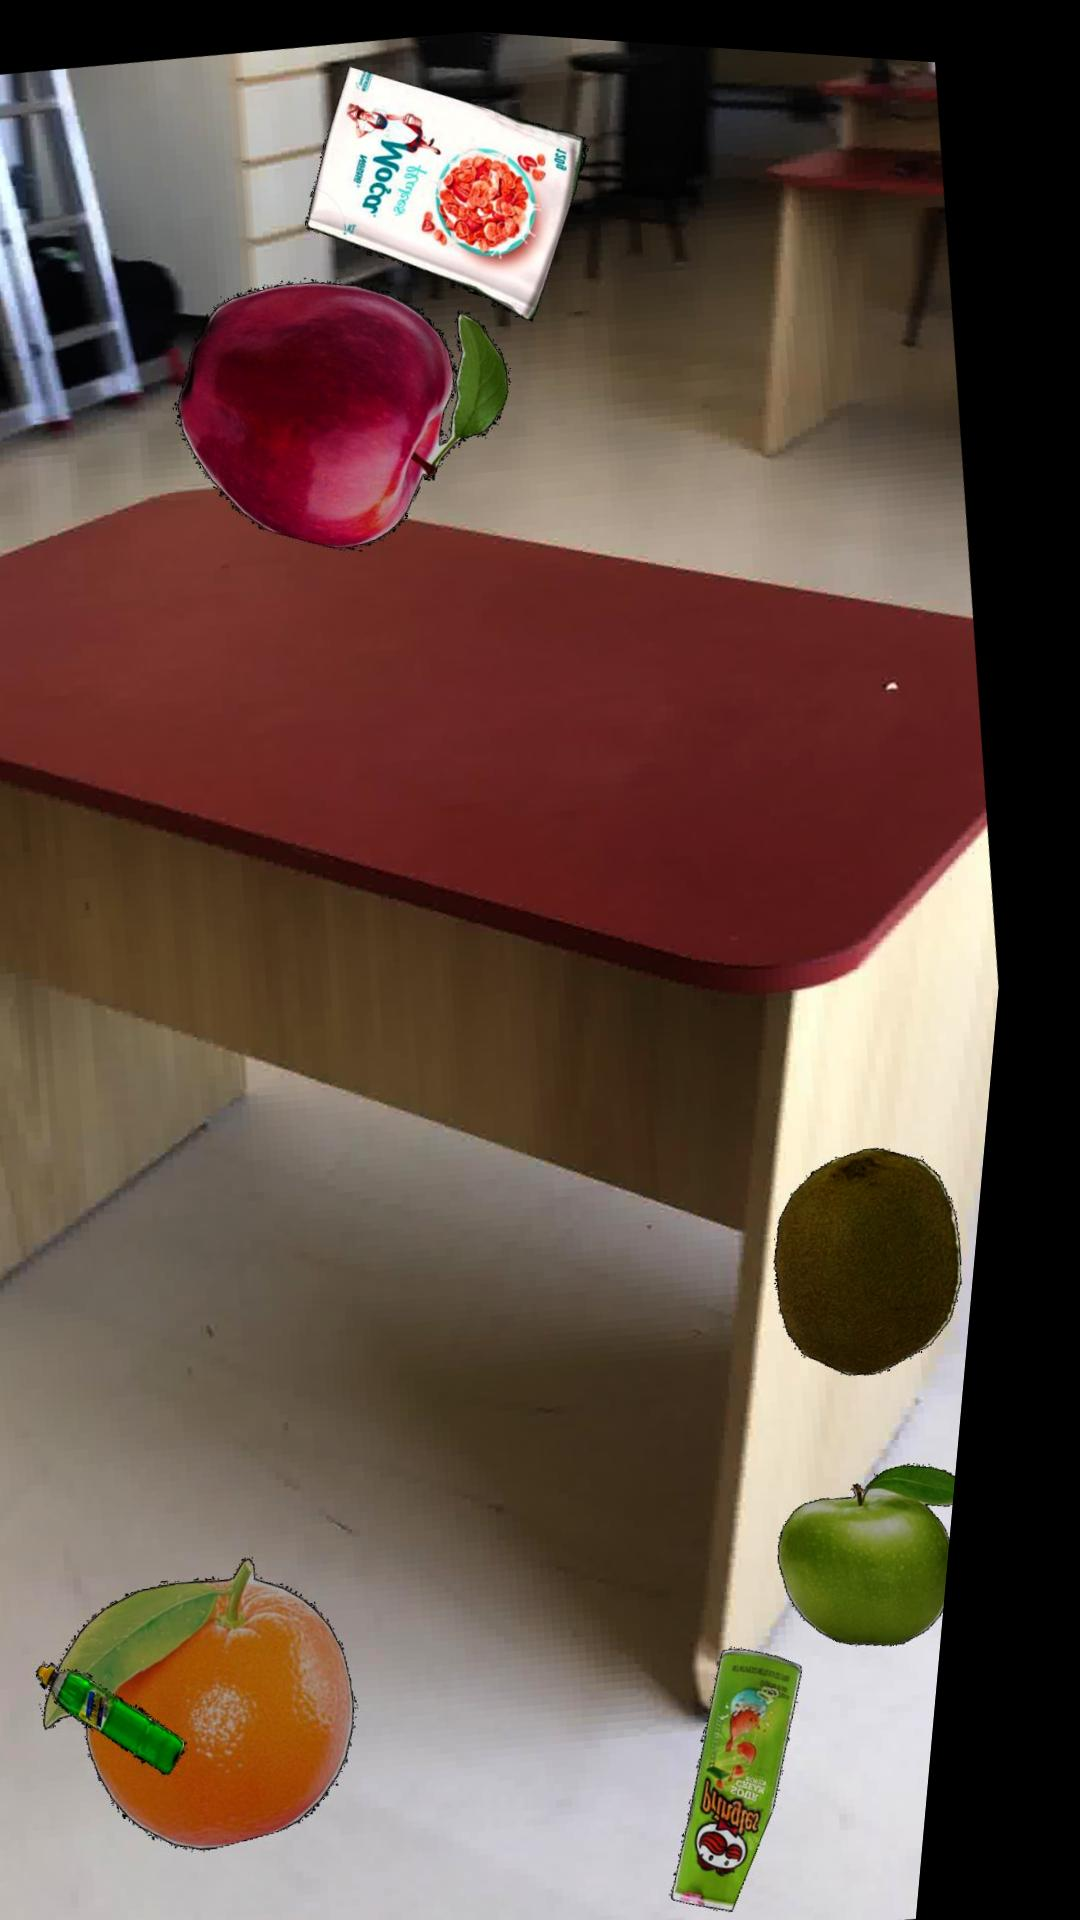apple: (185, 273, 514, 541)
cleaner: (67, 1659, 219, 1767)
corn flakes: (309, 58, 589, 311)
green apple: (806, 1447, 982, 1629)
kiwi: (796, 1131, 985, 1358)
orange: (75, 1549, 386, 1842)
pringles: (705, 1633, 832, 1896)
